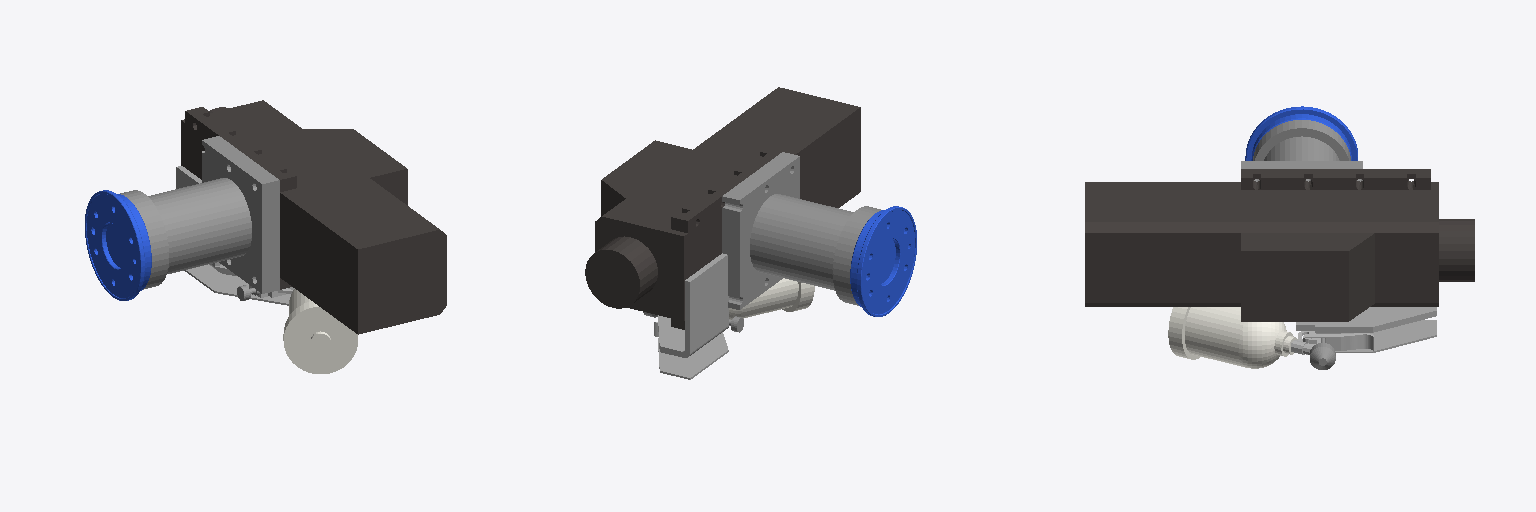
File: spindle_spray_centered.obj
3 renders of one model, left to right at view 1: azimuth 30°, elevation 25°; view 2: azimuth 150°, elevation 25°; view 3: azimuth 270°, elevation 25°, orthographic.
Bounding box in the file's own units: 302 × 194 × 386.